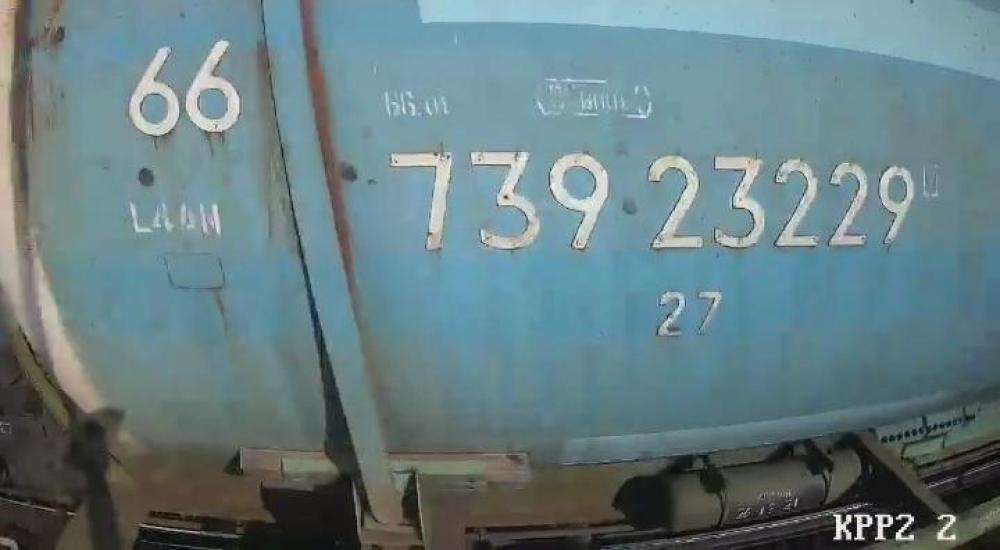Wagon-number: (385, 143, 919, 259)
